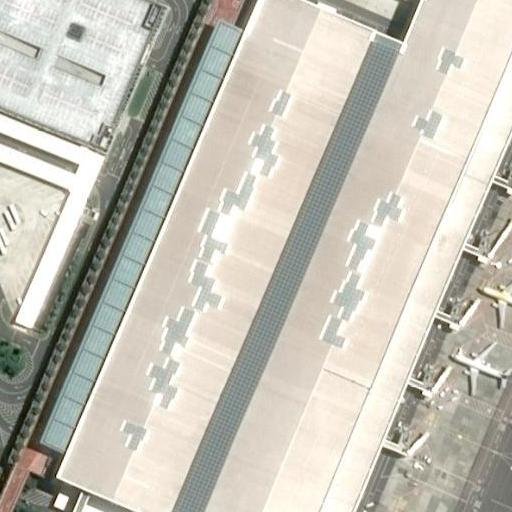Aircraft: (449, 340, 509, 397), (478, 272, 512, 328)
